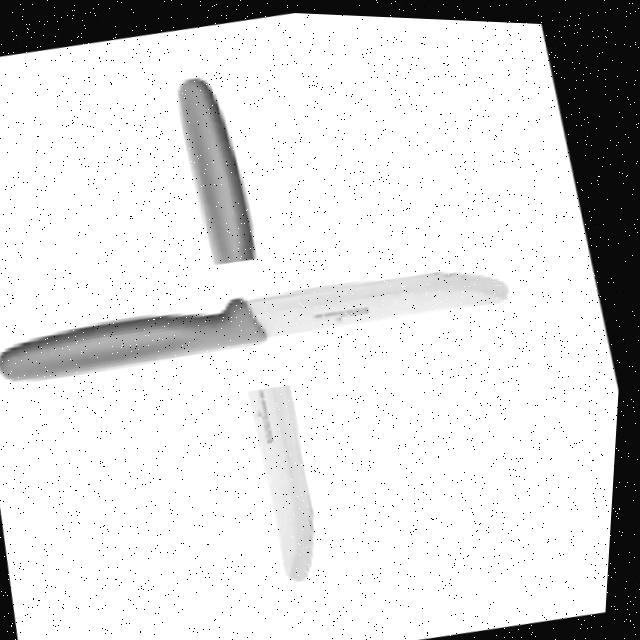knife: (148, 64, 356, 591), (0, 233, 519, 407)
